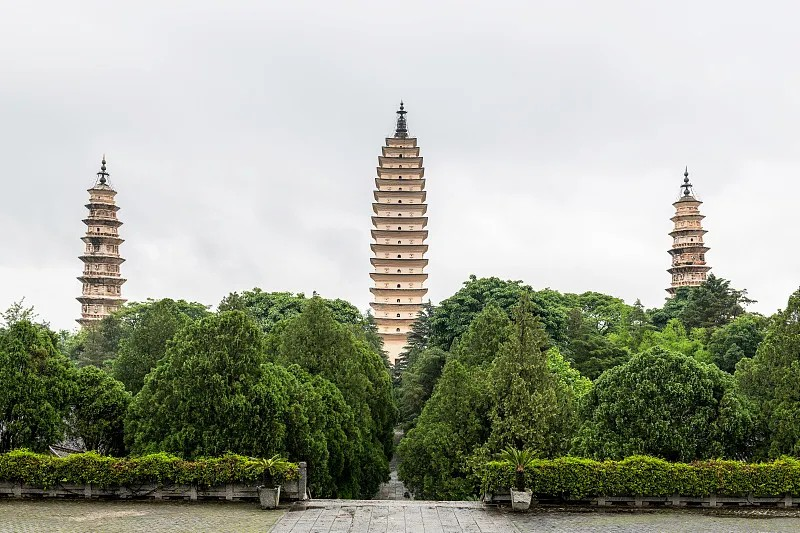ThreePagoda: (368, 100, 428, 364)
